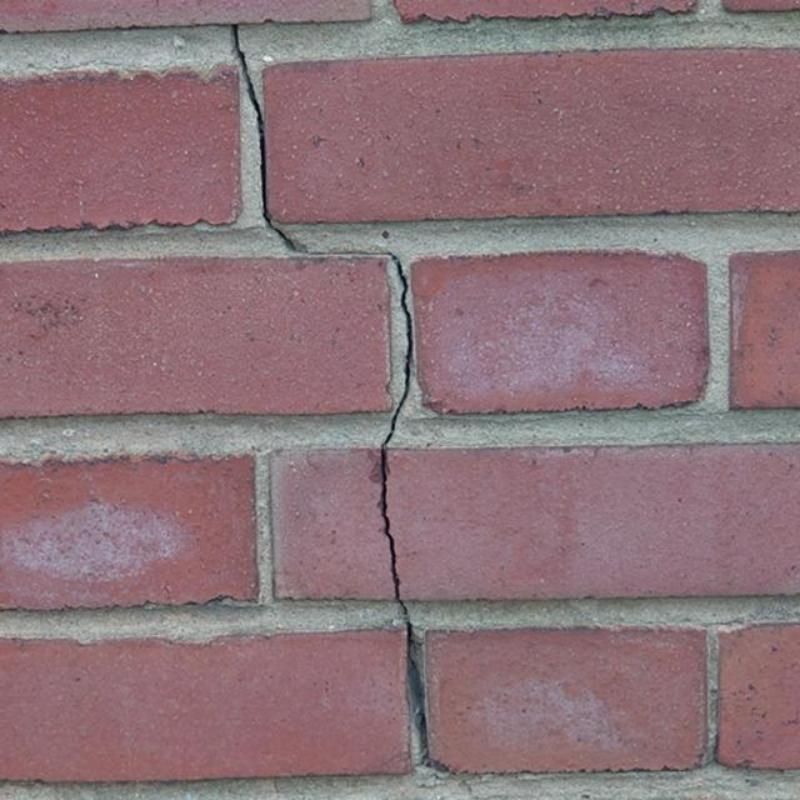pothole: (232, 25, 419, 676), (410, 671, 446, 772)
